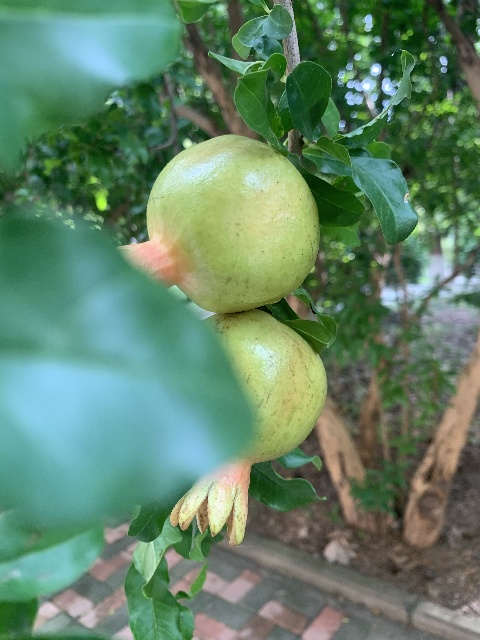mid-growth: (170, 310, 326, 546), (116, 133, 319, 313)
